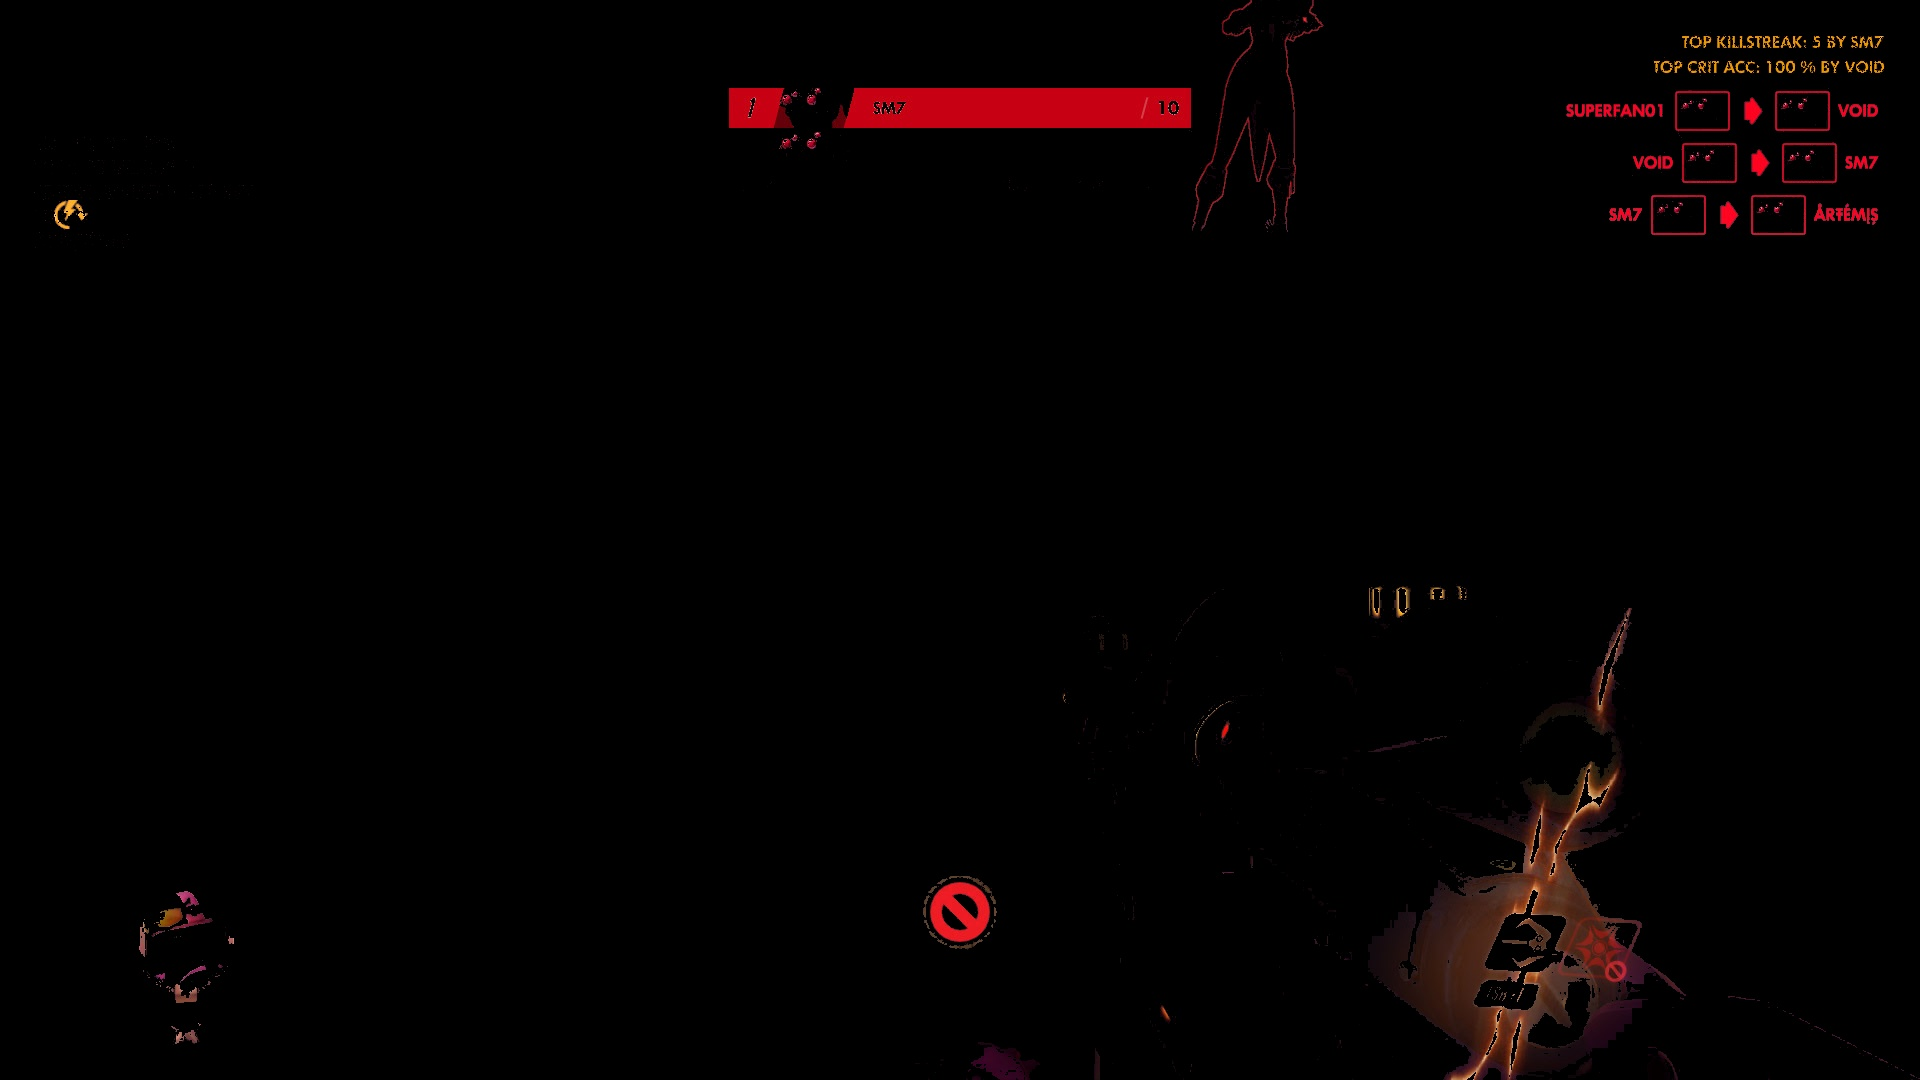widowmaker: (1180, 1, 1307, 258)
